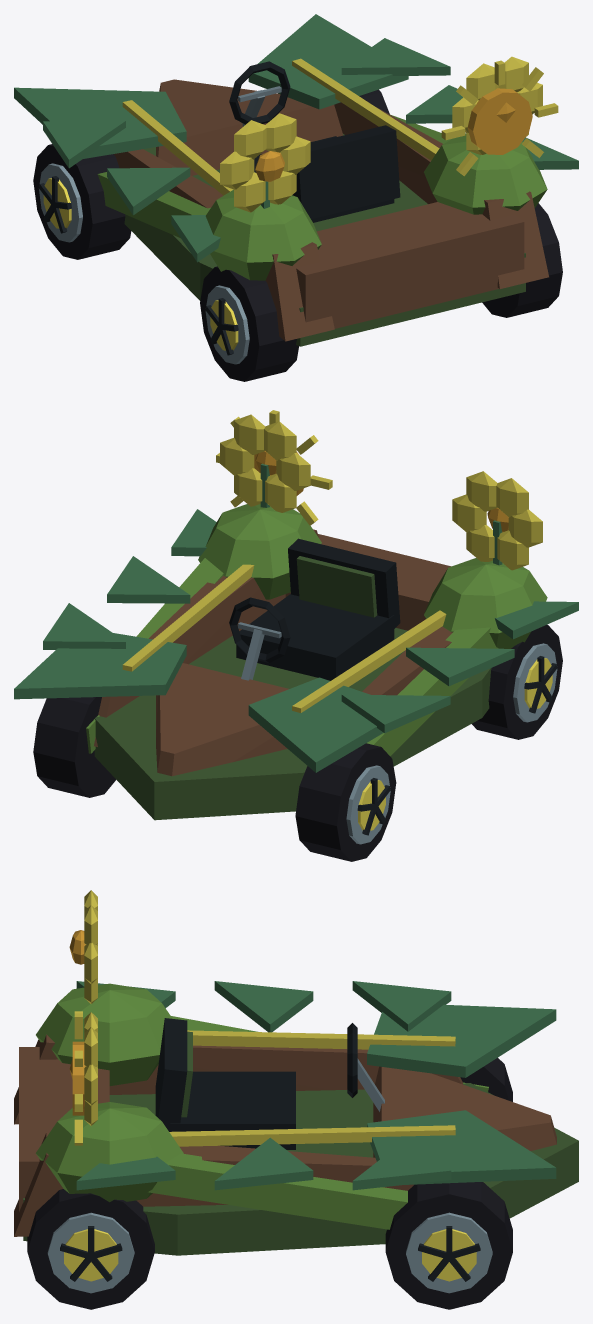
The model's file is kart.glb.
3 renders of one model, top to bottom at view 1: azimuth 30°, elevation 25°; view 2: azimuth 150°, elevation 25°; view 3: azimuth 270°, elevation 25°, orthographic. The views are drawn at different scales.
Parts seen in each view (by area): view 1: identity-nature-nature-root-cradle-and-leaf-bow, identity-nature-motif-leaves, identity-nature-driver-cockpit, identity-nature-motif-flowers, wheel-rear-left, wheel-front-left, identity-nature-motif-sun, wheel-rear-right; view 2: identity-nature-nature-root-cradle-and-leaf-bow, identity-nature-driver-cockpit, identity-nature-motif-leaves, identity-nature-motif-flowers, wheel-front-left, wheel-rear-left, wheel-front-right, identity-nature-motif-sun; view 3: identity-nature-nature-root-cradle-and-leaf-bow, identity-nature-motif-leaves, wheel-front-right, wheel-rear-right, identity-nature-driver-cockpit, identity-nature-motif-flowers, identity-nature-motif-sun, wheel-front-left.
Boxes of the visible parts, x1,y1,x2,y2 form: identity-nature-nature-root-cradle-and-leaf-bow: (14,14,548,346); identity-nature-motif-leaves: (43,38,578,262); identity-nature-driver-cockpit: (229,61,400,222); identity-nature-motif-flowers: (220,56,542,212); wheel-rear-left: (200,266,298,381); wheel-front-left: (33,144,131,259); identity-nature-motif-sun: (441,60,558,176); wheel-rear-right: (482,203,562,317); identity-nature-nature-root-cradle-and-leaf-bow: (14,504,547,820); identity-nature-driver-cockpit: (229,538,400,680); identity-nature-motif-leaves: (43,509,578,733); identity-nature-motif-flowers: (220,414,542,570); wheel-front-left: (295,743,396,861); wheel-rear-left: (472,624,562,739); wheel-front-right: (33,697,116,797); identity-nature-motif-sun: (216,410,332,525); identity-nature-nature-root-cradle-and-leaf-bow: (14,983,578,1255); identity-nature-motif-leaves: (76,981,451,1190); wheel-front-right: (385,1182,512,1309); wheel-rear-right: (27,1189,154,1309); identity-nature-driver-cockpit: (155,1018,384,1149); identity-nature-motif-flowers: (69,890,97,1125); identity-nature-motif-sun: (72,1011,84,1145); wheel-front-left: (460,1058,512,1101).
Bounding box in the file's own units: 2.3 × 1.47 × 2.75.
